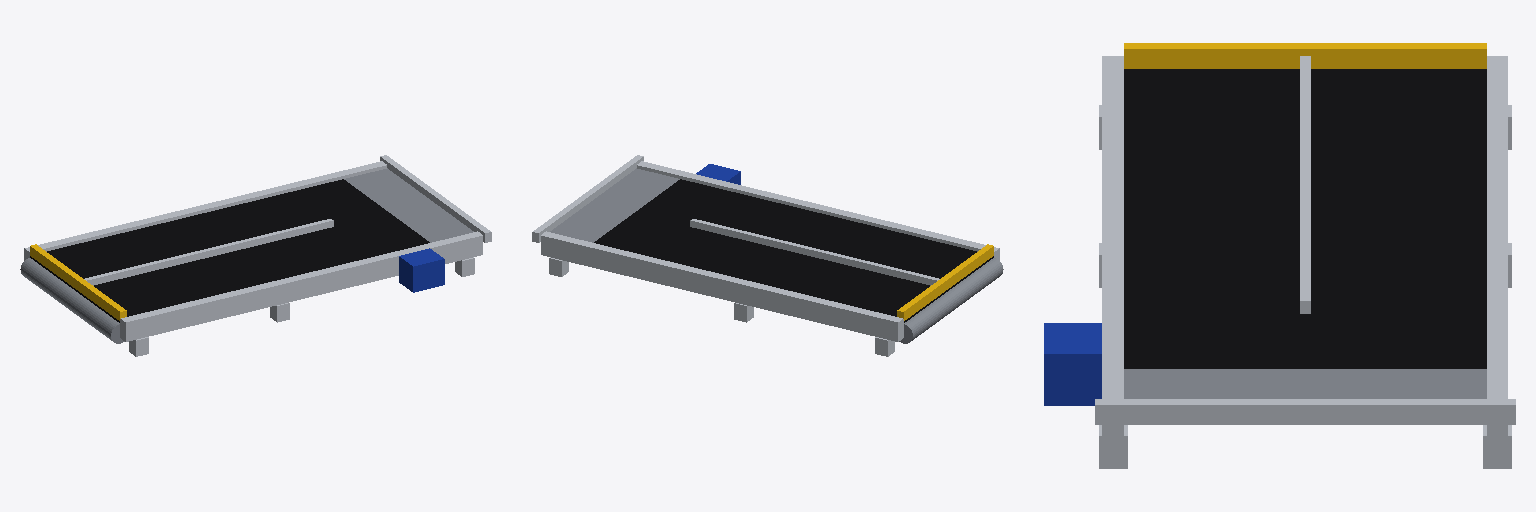
The robot description file, URDF, robot "conveyor":
<?xml version="1.0"?>
<!-- SPDX-License-Identifier: GPL-3.0-or-later OR LicenseRef-RobotIK-Commercial
     Copyright (c) 2020-2026 Quentin Quadrat
     Conveyor of the DualArm cell: a belt of two lanes split by a divider,
     an end stop on the near side, an infeed table on the far side.
     Base frame: origin on the floor at the middle of the end stop, x along
     the belt toward the infeed table, z up. The belt top is 0.10 m high. -->
<robot name="conveyor">
  <material name="belt"><color rgba="0.10 0.10 0.11 1"/></material>
  <material name="steel"><color rgba="0.55 0.57 0.60 1"/></material>
  <material name="aluminium"><color rgba="0.78 0.80 0.83 1"/></material>
  <material name="yellow"><color rgba="0.95 0.75 0.10 1"/></material>
  <material name="blue"><color rgba="0.15 0.30 0.70 1"/></material>

  <link name="conveyor_base">
    <inertial>
      <origin xyz="0.5 0 0.05" rpy="0 0 0"/>
      <mass value="40.0"/>
      <inertia ixx="1.0" ixy="0.0" ixz="0.0" iyy="1.0" iyz="0.0" izz="1.0"/>
    </inertial>
    <visual>
      <!-- belt -->
      <origin xyz="0.5000 0.0000 0.0950" rpy="0.0000 0.0000 0.0000"/>
      <geometry><box size="1.0000 0.5000 0.0100"/></geometry>
      <material name="belt"/>
    </visual>
    <collision>
      <!-- belt -->
      <origin xyz="0.5000 0.0000 0.0950" rpy="0.0000 0.0000 0.0000"/>
      <geometry><box size="1.0000 0.5000 0.0100"/></geometry>
    </collision>
    <visual>
      <!-- infeed_table -->
      <origin xyz="1.0700 0.0000 0.0950" rpy="0.0000 0.0000 0.0000"/>
      <geometry><box size="0.1400 0.5000 0.0100"/></geometry>
      <material name="steel"/>
    </visual>
    <collision>
      <!-- infeed_table -->
      <origin xyz="1.0700 0.0000 0.0950" rpy="0.0000 0.0000 0.0000"/>
      <geometry><box size="0.1400 0.5000 0.0100"/></geometry>
    </collision>
    <visual>
      <!-- back_stop -->
      <origin xyz="1.1500 0.0000 0.1050" rpy="0.0000 0.0000 0.0000"/>
      <geometry><box size="0.0200 0.5800 0.0300"/></geometry>
      <material name="aluminium"/>
    </visual>
    <collision>
      <!-- back_stop -->
      <origin xyz="1.1500 0.0000 0.1050" rpy="0.0000 0.0000 0.0000"/>
      <geometry><box size="0.0200 0.5800 0.0300"/></geometry>
    </collision>
    <visual>
      <!-- end_stop -->
      <origin xyz="0.0100 0.0000 0.1150" rpy="0.0000 0.0000 0.0000"/>
      <geometry><box size="0.0200 0.5000 0.0300"/></geometry>
      <material name="yellow"/>
    </visual>
    <collision>
      <!-- end_stop -->
      <origin xyz="0.0100 0.0000 0.1150" rpy="0.0000 0.0000 0.0000"/>
      <geometry><box size="0.0200 0.5000 0.0300"/></geometry>
    </collision>
    <visual>
      <!-- divider -->
      <origin xyz="0.4200 0.0000 0.1100" rpy="0.0000 0.0000 0.0000"/>
      <geometry><box size="0.8000 0.0150 0.0200"/></geometry>
      <material name="aluminium"/>
    </visual>
    <collision>
      <!-- divider -->
      <origin xyz="0.4200 0.0000 0.1100" rpy="0.0000 0.0000 0.0000"/>
      <geometry><box size="0.8000 0.0150 0.0200"/></geometry>
    </collision>
    <visual>
      <!-- side_left -->
      <origin xyz="0.5700 -0.2650 0.0800" rpy="0.0000 0.0000 0.0000"/>
      <geometry><box size="1.1400 0.0300 0.0600"/></geometry>
      <material name="aluminium"/>
    </visual>
    <collision>
      <!-- side_left -->
      <origin xyz="0.5700 -0.2650 0.0800" rpy="0.0000 0.0000 0.0000"/>
      <geometry><box size="1.1400 0.0300 0.0600"/></geometry>
    </collision>
    <visual>
      <!-- leg -->
      <origin xyz="0.0500 -0.2650 0.0250" rpy="0.0000 0.0000 0.0000"/>
      <geometry><box size="0.0400 0.0400 0.0500"/></geometry>
      <material name="aluminium"/>
    </visual>
    <visual>
      <!-- leg -->
      <origin xyz="0.5000 -0.2650 0.0250" rpy="0.0000 0.0000 0.0000"/>
      <geometry><box size="0.0400 0.0400 0.0500"/></geometry>
      <material name="aluminium"/>
    </visual>
    <visual>
      <!-- leg -->
      <origin xyz="1.0900 -0.2650 0.0250" rpy="0.0000 0.0000 0.0000"/>
      <geometry><box size="0.0400 0.0400 0.0500"/></geometry>
      <material name="aluminium"/>
    </visual>
    <visual>
      <!-- side_right -->
      <origin xyz="0.5700 0.2650 0.0800" rpy="0.0000 0.0000 0.0000"/>
      <geometry><box size="1.1400 0.0300 0.0600"/></geometry>
      <material name="aluminium"/>
    </visual>
    <collision>
      <!-- side_right -->
      <origin xyz="0.5700 0.2650 0.0800" rpy="0.0000 0.0000 0.0000"/>
      <geometry><box size="1.1400 0.0300 0.0600"/></geometry>
    </collision>
    <visual>
      <!-- leg -->
      <origin xyz="0.0500 0.2650 0.0250" rpy="0.0000 0.0000 0.0000"/>
      <geometry><box size="0.0400 0.0400 0.0500"/></geometry>
      <material name="aluminium"/>
    </visual>
    <visual>
      <!-- leg -->
      <origin xyz="0.5000 0.2650 0.0250" rpy="0.0000 0.0000 0.0000"/>
      <geometry><box size="0.0400 0.0400 0.0500"/></geometry>
      <material name="aluminium"/>
    </visual>
    <visual>
      <!-- leg -->
      <origin xyz="1.0900 0.2650 0.0250" rpy="0.0000 0.0000 0.0000"/>
      <geometry><box size="0.0400 0.0400 0.0500"/></geometry>
      <material name="aluminium"/>
    </visual>
    <visual>
      <!-- roller -->
      <origin xyz="0.0000 0.0000 0.0640" rpy="1.5708 0.0000 0.0000"/>
      <geometry><cylinder radius="0.0300" length="0.5000"/></geometry>
      <material name="steel"/>
    </visual>
    <visual>
      <!-- roller -->
      <origin xyz="1.0000 0.0000 0.0640" rpy="1.5708 0.0000 0.0000"/>
      <geometry><cylinder radius="0.0300" length="0.5000"/></geometry>
      <material name="steel"/>
    </visual>
    <visual>
      <!-- motor -->
      <origin xyz="0.9200 -0.3200 0.0700" rpy="0.0000 0.0000 0.0000"/>
      <geometry><box size="0.1000 0.0800 0.0800"/></geometry>
      <material name="blue"/>
    </visual>
  </link>
</robot>

--- Facts derived from the render (not from the file) ---
3 views of the same robot in one strip: view 1: azimuth 30°, elevation 25°; view 2: azimuth 150°, elevation 25°; view 3: azimuth 270°, elevation 25° (orthographic).
Robot: conveyor — 1 links, 0 joints (none); root link conveyor_base; default pose: every joint at zero.
Visible links, largest first — view 1: conveyor_base; view 2: conveyor_base; view 3: conveyor_base.
Boxes of the visible links, left/top/right/bottom form: conveyor_base: left=20, top=155, right=491, bottom=356; conveyor_base: left=532, top=155, right=1003, bottom=356; conveyor_base: left=1044, top=43, right=1515, bottom=468.
Bounding box of the posed robot: 1.19 × 0.65 × 0.13 m (x, y, z).
Geometry: primitives only (box / cylinder / sphere), no mesh files.
